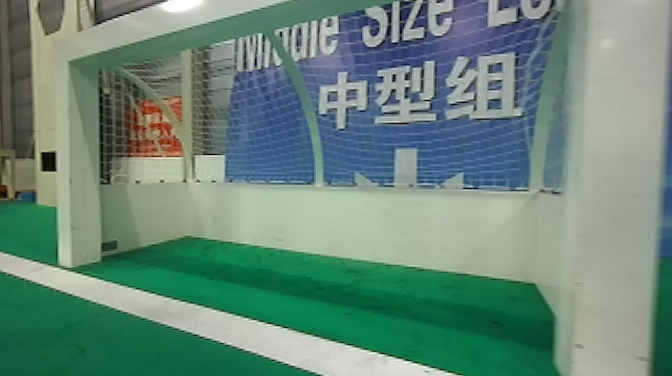goalpost: (565, 2, 660, 371), (44, 28, 102, 270)
